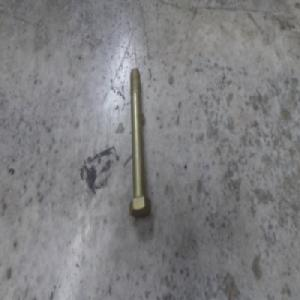Bolt: (127, 67, 152, 216)
